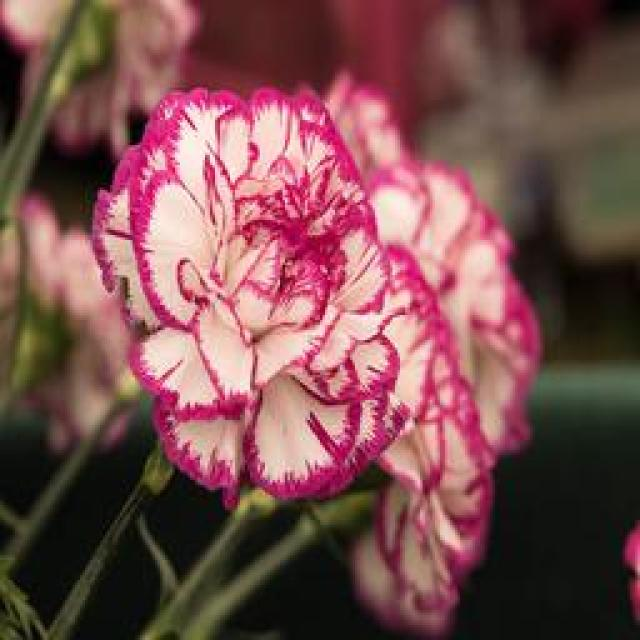carnation: (79, 73, 447, 487)
